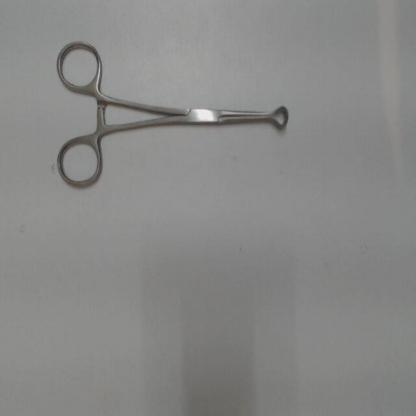Babcock Tissue Forceps: (54, 37, 292, 194)
